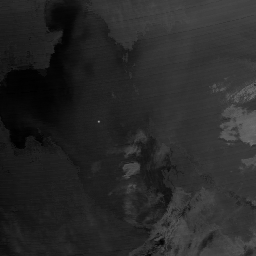Target: (96, 119, 100, 124)
